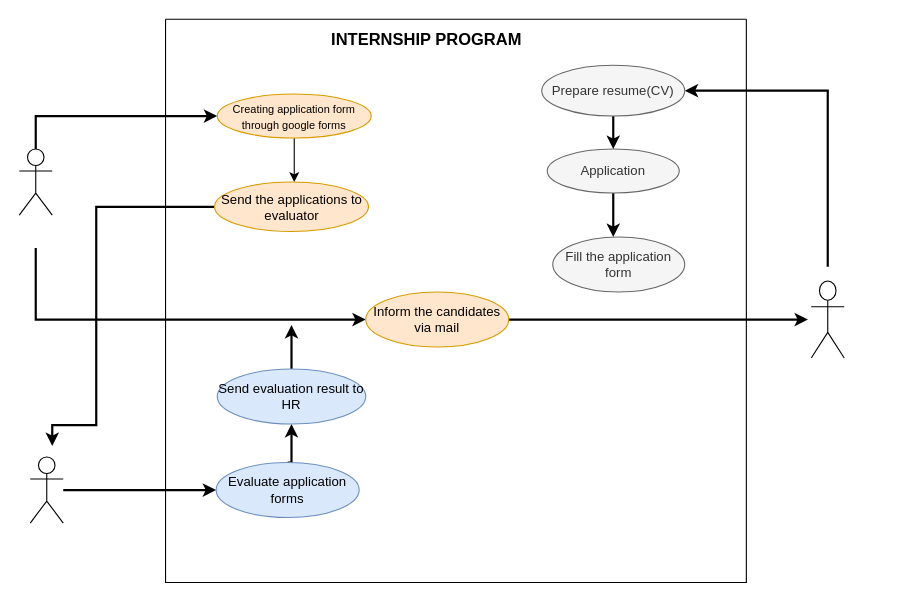
The diagram is 908 pixels wide and 602 high, and some of its shapes have lost their labels. The centre of each missing label's shape, as x and y in pixels:
"Evaluator" belongs at point 46,489.
"HR" belongs at point 35,181.
"Internship Candidate" belongs at point 827,319.
